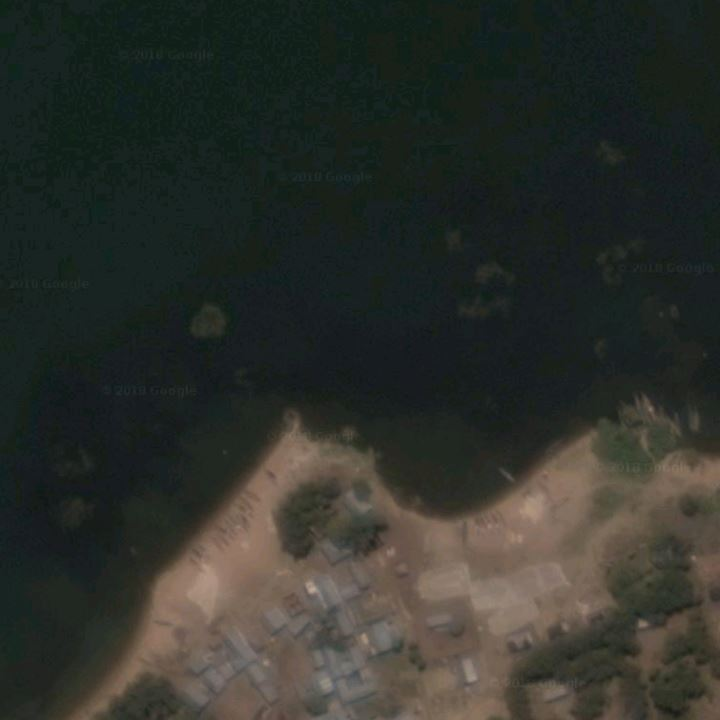boat: (661, 411, 685, 445), (493, 462, 521, 486), (183, 554, 212, 577), (236, 496, 257, 522), (206, 534, 230, 556), (223, 516, 247, 536), (643, 391, 658, 422), (213, 528, 235, 549), (217, 522, 240, 542), (231, 507, 252, 528), (190, 548, 212, 568), (238, 494, 259, 514), (240, 487, 263, 505), (149, 617, 178, 630), (259, 466, 279, 483), (685, 405, 695, 437), (483, 512, 495, 538), (632, 391, 643, 419), (693, 403, 702, 437), (493, 507, 508, 527), (477, 515, 488, 541), (490, 509, 501, 532), (473, 514, 480, 540)
